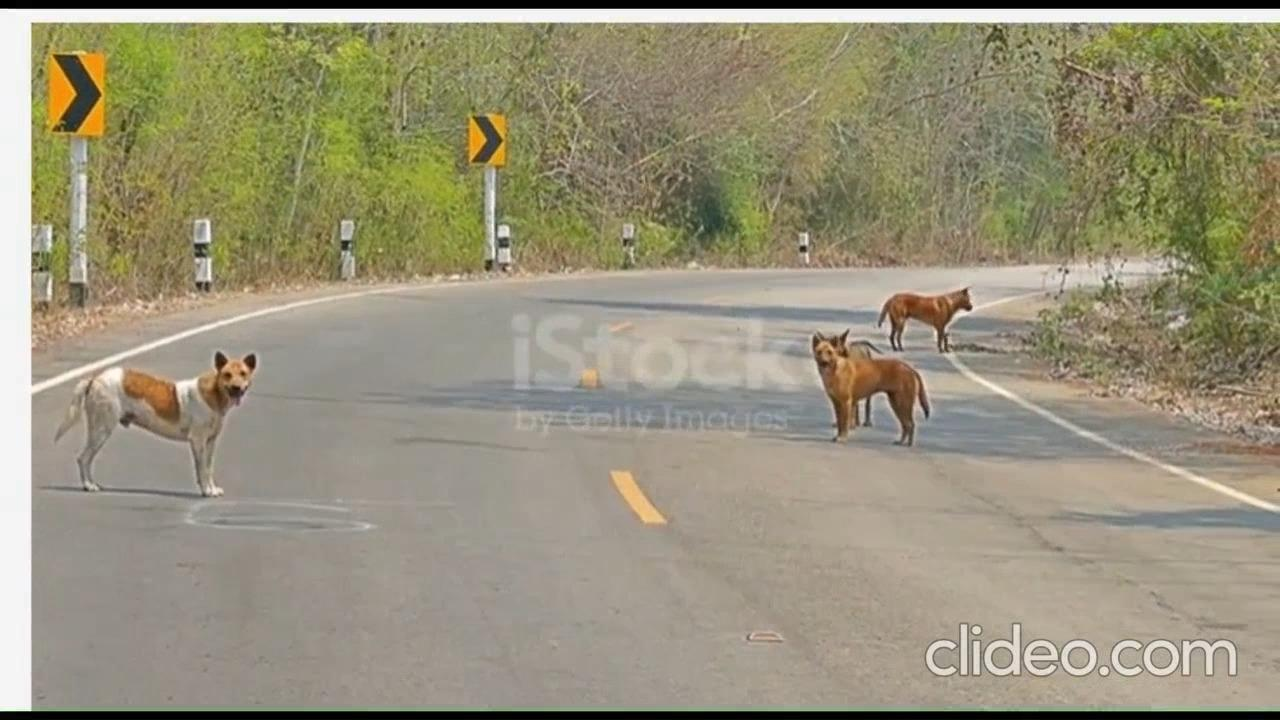dog: (65, 344, 260, 503), (806, 326, 930, 442), (874, 283, 978, 351)
